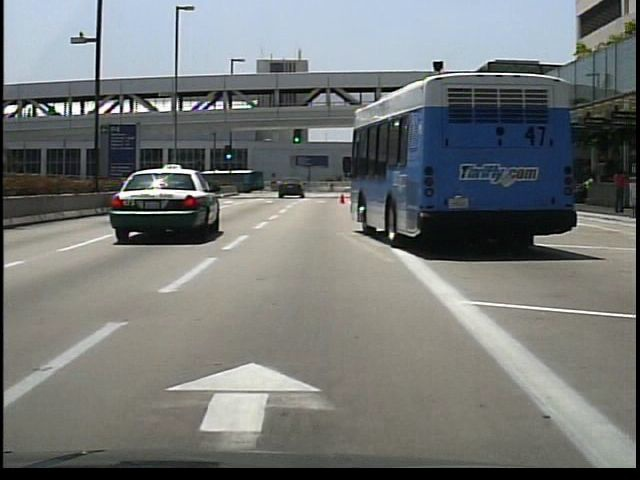person: (610, 163, 628, 216)
